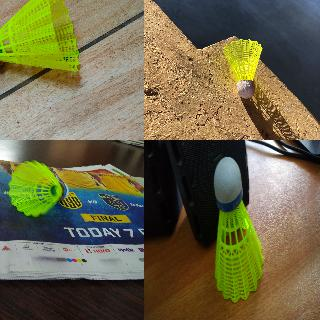shuttlecock: (213, 156, 263, 302), (0, 0, 79, 76), (8, 160, 68, 216), (224, 38, 262, 98)
